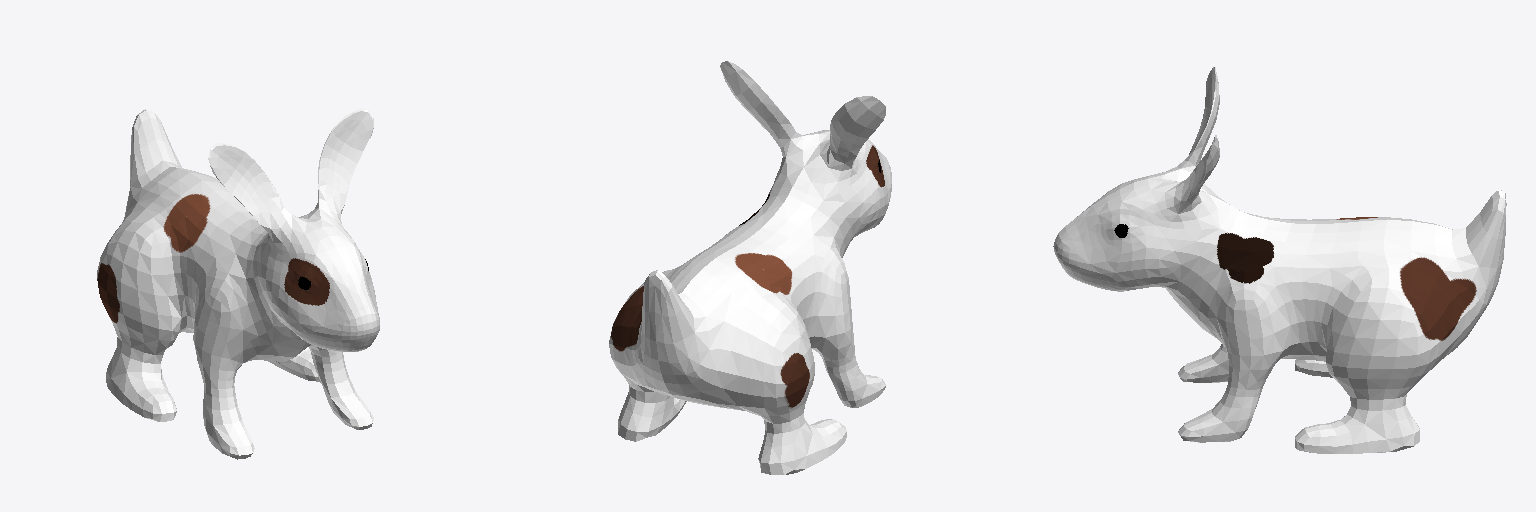
3 renders of one model, left to right at view 1: azimuth 30°, elevation 25°; view 2: azimuth 150°, elevation 25°; view 3: azimuth 270°, elevation 25°, orthographic.
Parts seen in each view (by area): view 1: Bunny_Mesh; view 2: Bunny_Mesh; view 3: Bunny_Mesh.
Boxes of the visible parts, <box> form: Bunny_Mesh: <box>97,108,379,459</box>; Bunny_Mesh: <box>609,61,891,474</box>; Bunny_Mesh: <box>1053,67,1506,453</box>.
Bounding box in the file's own units: 0.3606 × 0.5465 × 0.7295.
1 materials, 1 textured.